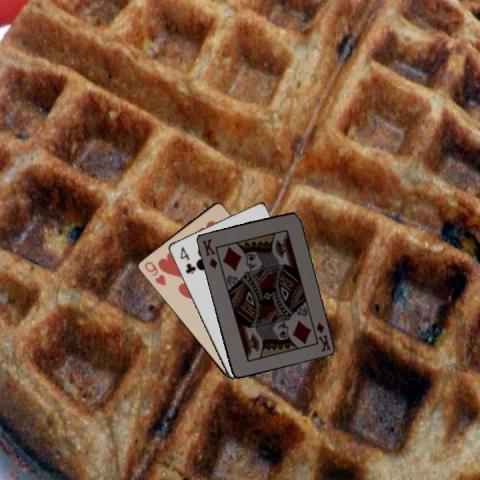4c: (176, 244, 196, 275)
9h: (141, 259, 167, 287)
Kd: (309, 317, 332, 353), (198, 236, 218, 271)
